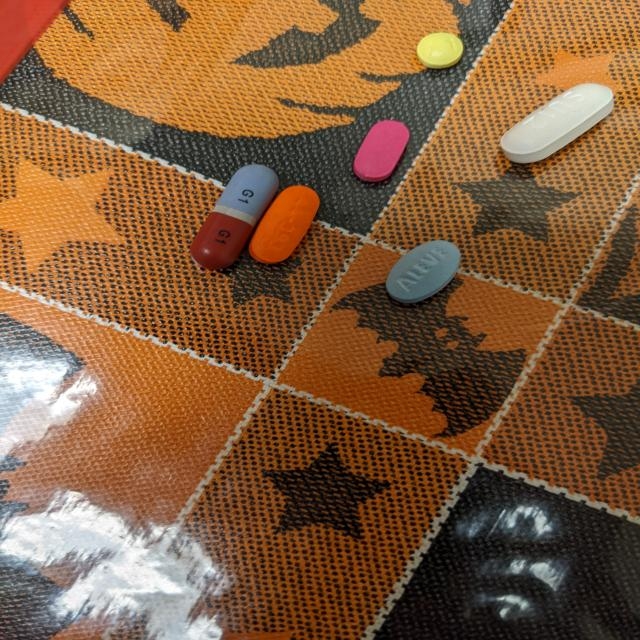non-organic waste: (500, 81, 618, 166), (188, 163, 280, 271), (248, 184, 322, 264), (385, 239, 462, 304), (352, 120, 411, 182), (415, 32, 465, 70)
